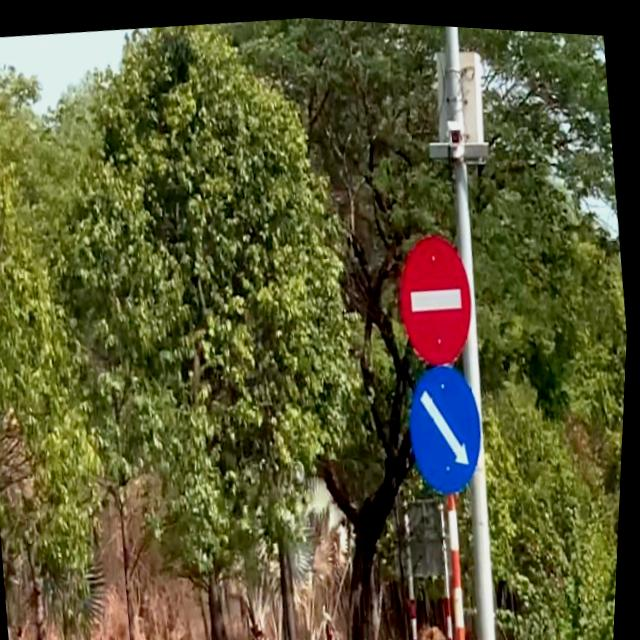Cam di nguoc chieu: (392, 224, 484, 364)
Vong chuong ngai vat sang phai: (403, 352, 495, 496)
